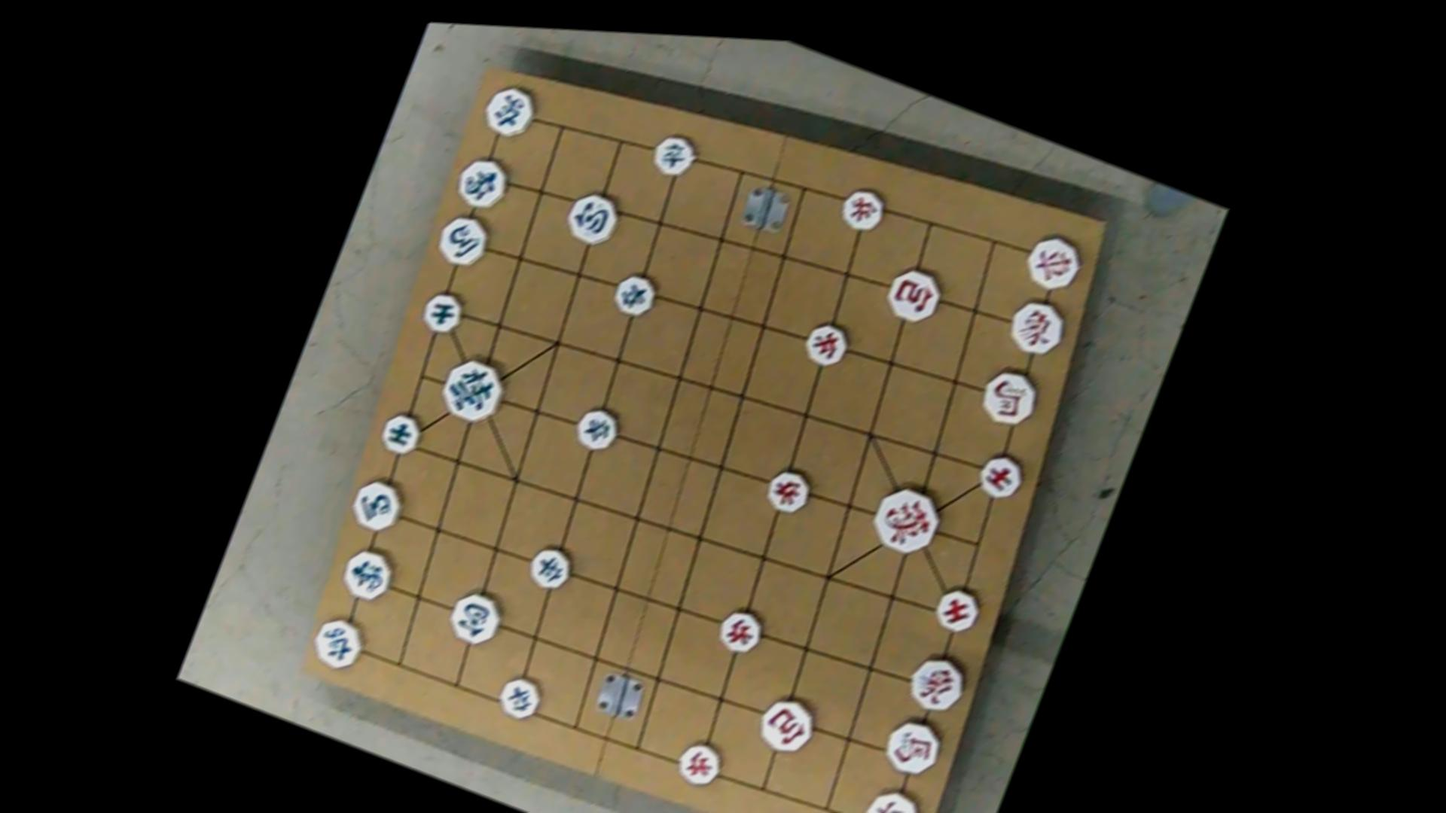cha_green: (477, 78, 539, 145), (306, 612, 368, 677)
cha_red: (1021, 228, 1087, 297), (859, 783, 926, 813)
jol_green: (493, 669, 548, 727), (648, 128, 699, 183), (609, 266, 659, 322), (523, 541, 573, 597), (572, 402, 621, 456)
jol_red: (761, 464, 814, 521), (837, 181, 889, 239), (712, 604, 763, 661), (674, 735, 725, 791), (801, 316, 851, 371)
ma_green: (347, 474, 407, 538), (433, 208, 492, 272)
ma_red: (881, 711, 949, 781), (976, 364, 1044, 434)
po_green: (445, 586, 507, 653), (562, 184, 623, 249)
po_red: (755, 690, 820, 759), (883, 258, 947, 325)
sa_green: (418, 286, 466, 340), (377, 408, 425, 460)
sa_red: (929, 583, 984, 641), (974, 449, 1025, 504)
sang_green: (450, 151, 513, 218), (337, 544, 398, 607)
sang_red: (1004, 290, 1071, 361), (903, 650, 971, 718)
wang_green: (434, 352, 507, 429)
wang_red: (868, 480, 947, 562)
